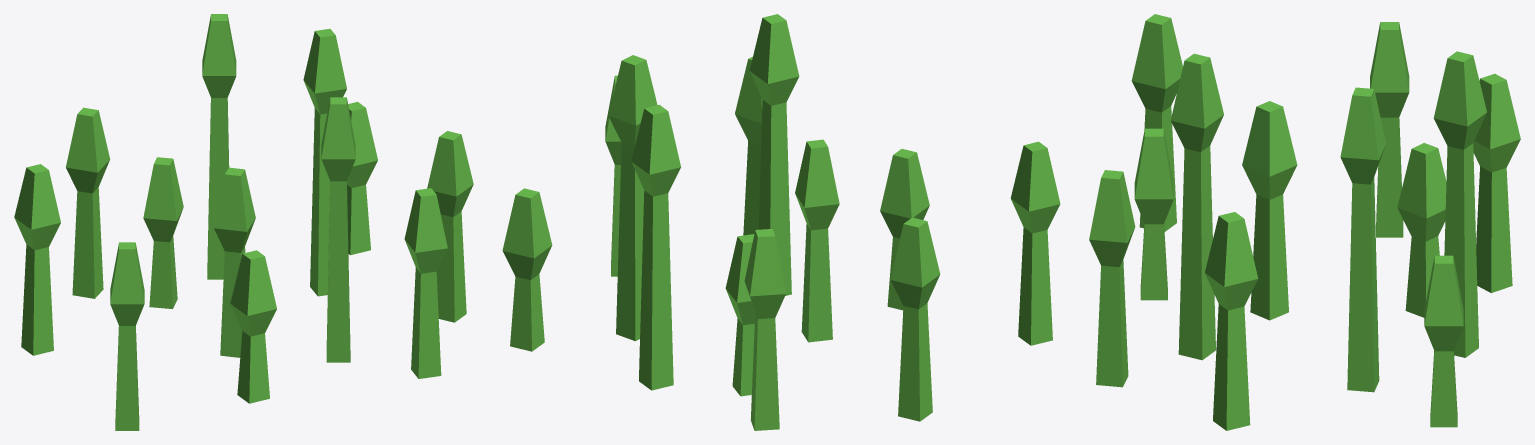
The model's file is crops_wheatStageA.glb.
3 views of the same model, side by side, from view 1: azimuth 30°, elevation 25°; view 2: azimuth 150°, elevation 25°; view 3: azimuth 270°, elevation 25° (orthographic). The views are drawn at different scales.
Parts seen in each view (by area): view 1: crops_wheatStageA; view 2: crops_wheatStageA; view 3: crops_wheatStageA.
Boxes of the visible parts, x1,y1,x2,y2 form: crops_wheatStageA: (14, 14, 473, 430); crops_wheatStageA: (502, 14, 1060, 430); crops_wheatStageA: (1089, 14, 1520, 430).
Size of the model in its own units: 0.5396 by 0.3349 by 0.4467.
